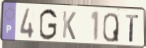1: (90, 10, 100, 43)
4: (19, 8, 36, 40)
G: (38, 8, 58, 42)
K: (62, 10, 77, 42)
Q: (102, 12, 120, 43)
T: (125, 13, 140, 44)
